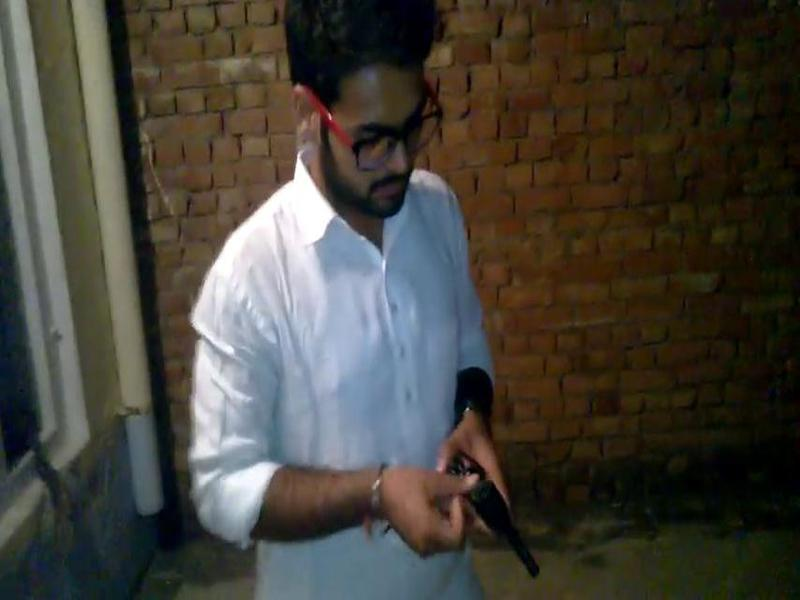Revolver: (429, 436, 567, 600)
